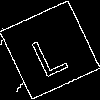L: (24, 25, 70, 79)
